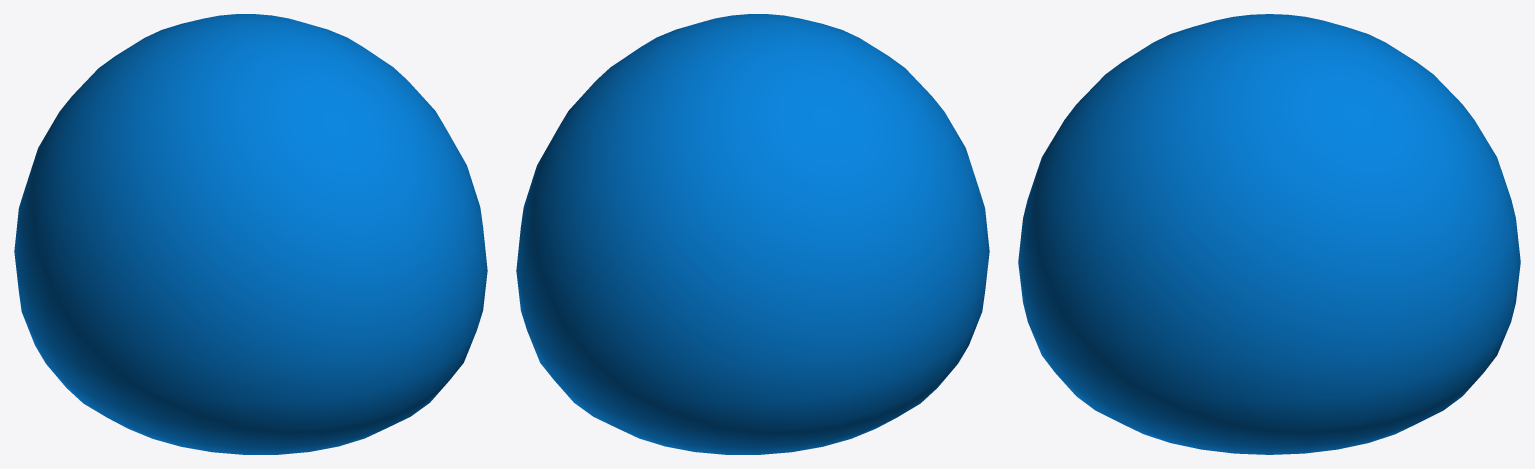
Rendered from slime.obj.
3 renders of one model, left to right at view 1: azimuth 30°, elevation 25°; view 2: azimuth 150°, elevation 25°; view 3: azimuth 270°, elevation 25°, orthographic.
Size of the model in its own units: 2.81 by 2.45 by 3.
